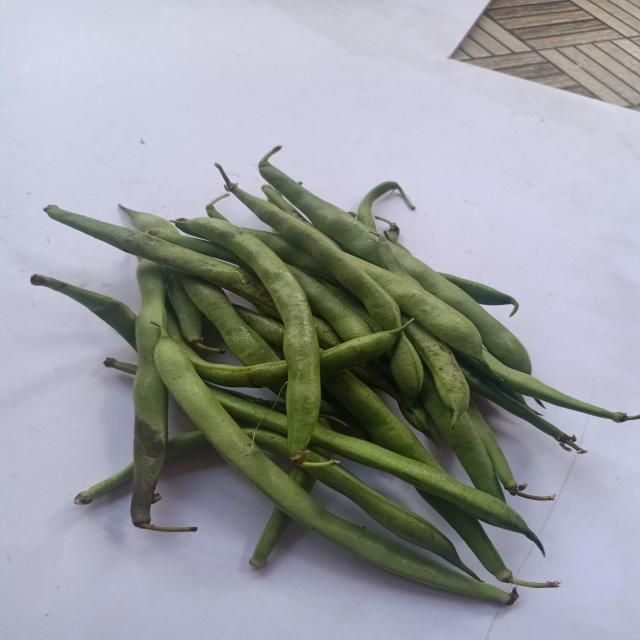Beans: (154, 326, 513, 603), (185, 218, 320, 460), (225, 178, 401, 330), (130, 259, 195, 533)
